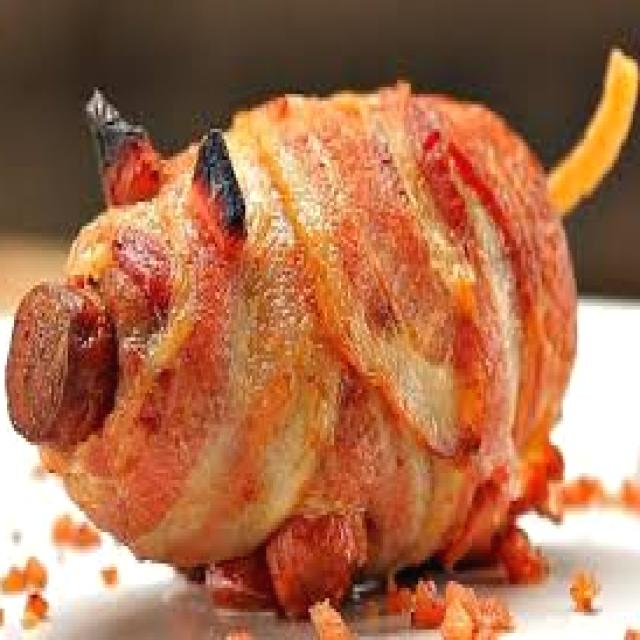organic: (33, 52, 601, 587)
